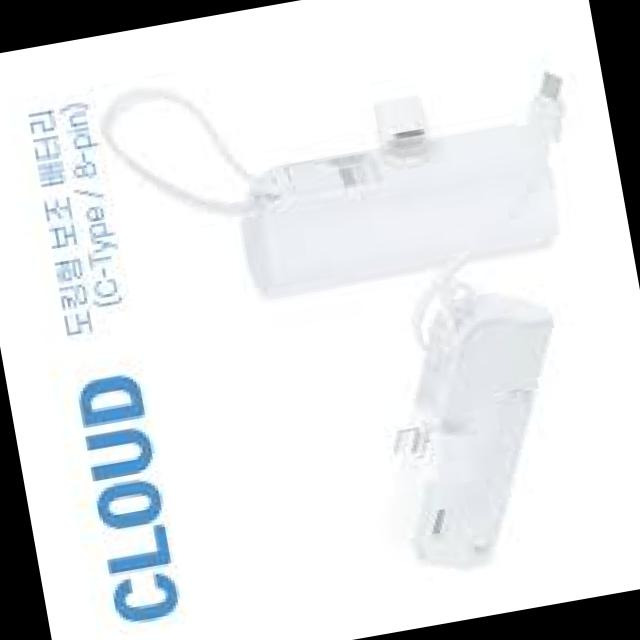power_bank: (215, 69, 588, 308), (353, 275, 597, 585)
